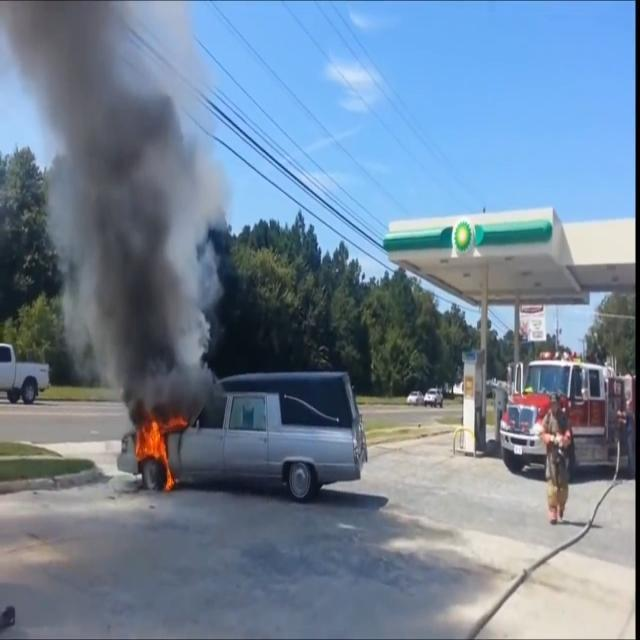fire: (132, 404, 187, 494)
